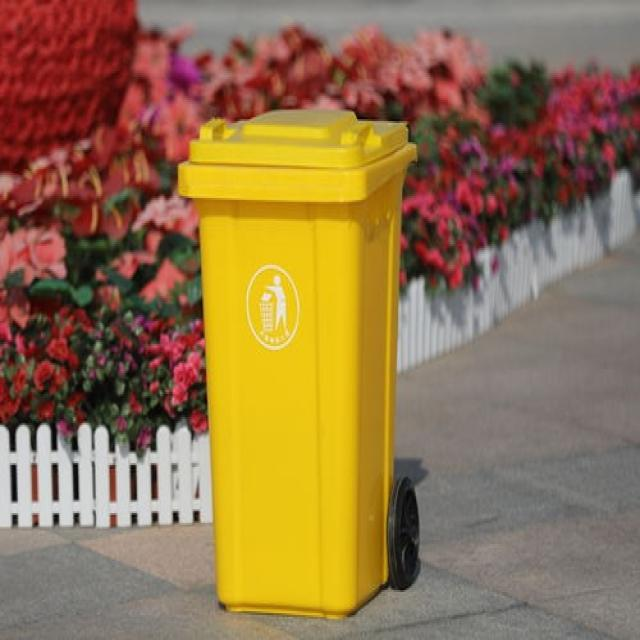garbage_bin: (177, 108, 417, 617)
